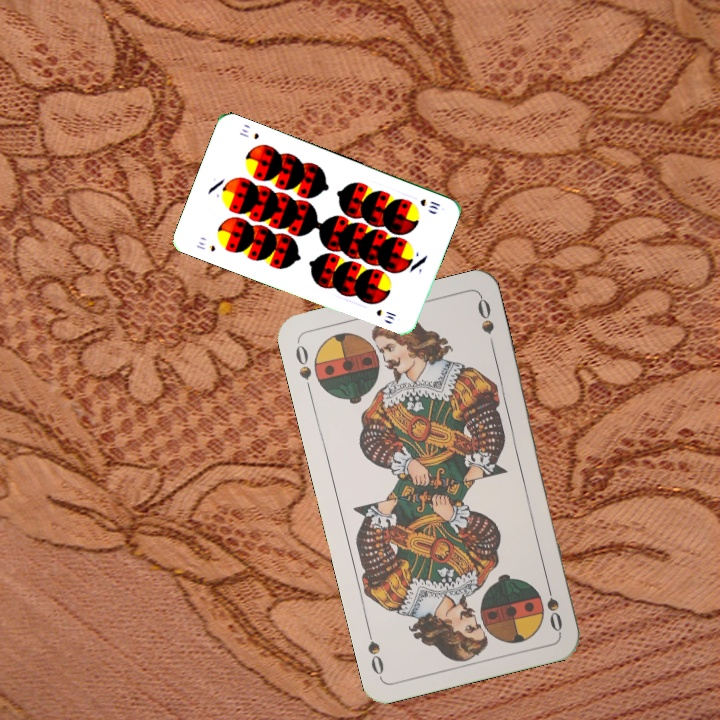S10: (416, 195, 443, 212), (192, 237, 218, 254)
SO: (541, 576, 565, 635), (291, 339, 315, 397)
